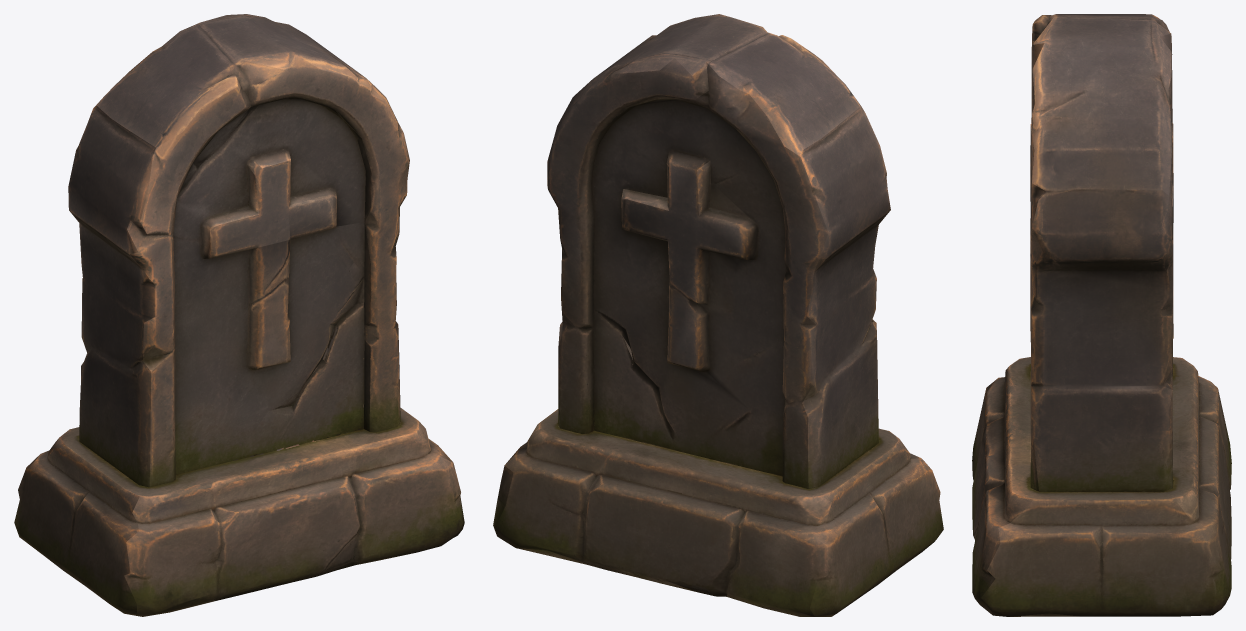
File: tombstone_a.glb
The picture shows the model from 3 angles, left to right: view 1: azimuth 30°, elevation 25°; view 2: azimuth 150°, elevation 25°; view 3: azimuth 270°, elevation 25°; orthographic projection.
Parts seen in each view (by area): view 1: low; view 2: low; view 3: low.
Part boxes in pixels (box(x1,y1,x2,y2)): low: box(14, 14, 464, 616); low: box(493, 14, 943, 616); low: box(972, 14, 1231, 616).
Size of the model in its own units: 0.7241 by 1 by 0.4642.
1 material, 1 textured.
